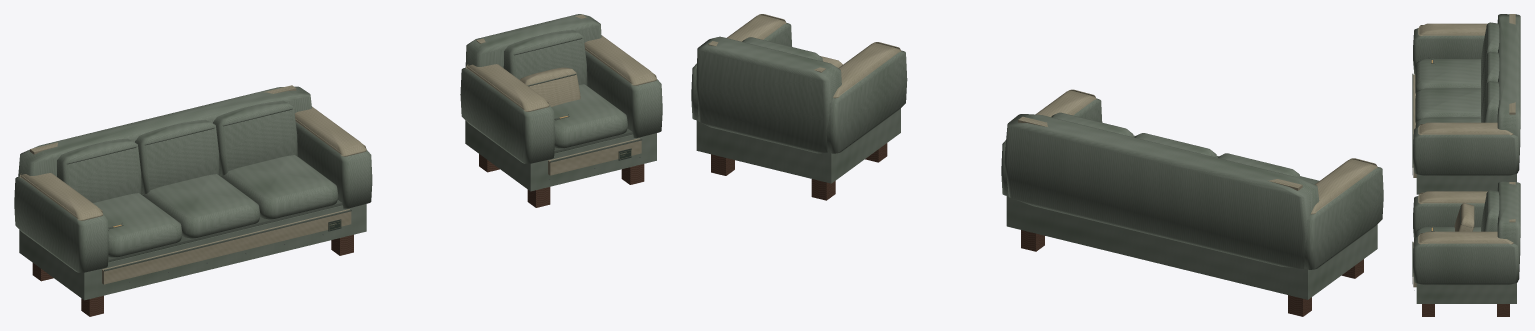
Rendered from PROJECT_Z_FIELDHAVEN_Sofa_Armchair_KIT.glb.
3 views of the same model, side by side, from view 1: azimuth 30°, elevation 25°; view 2: azimuth 150°, elevation 25°; view 3: azimuth 270°, elevation 25° (orthographic). The views are drawn at different scales.
Parts seen in each view (by area): view 1: RENDER_Sofa_Base_Upholstered_Box, RENDER_Sofa_Arm_L_CushionedMain, RENDER_Armchair_Arm_L_CushionedMain, RENDER_Sofa_SeatCushion_C_REMOVABLE, RENDER_Sofa_SeatCushion_B_REMOVABLE, RENDER_Sofa_RearBack_Solid_Carcass, RENDER_Sofa_BackCushion_C_REMOVABLE, RENDER_Sofa_BackCushion_B_REMOVABLE, RENDER_Sofa_BackCushion_A_REMOVABLE, RENDER_Armchair_Base_Upholstered_Box, RENDER_Sofa_Front_Apron_Worn_Trim, RENDER_Sofa_SeatCushion_A_REMOVABLE (+13 smaller); view 2: RENDER_Sofa_RearBack_Solid_Carcass, RENDER_Armchair_RearBack_Solid_Carcass, RENDER_Sofa_Base_Upholstered_Box, RENDER_Armchair_Base_Upholstered_Box, RENDER_Armchair_Arm_L_CushionedMain, RENDER_Sofa_Arm_L_CushionedMain, RENDER_Armchair_Arm_L_TopWornRest, RENDER_Sofa_Arm_L_TopWornRest, RENDER_Armchair_Arm_R_TopWornRest, RENDER_Sofa_Arm_R_TopWornRest, RENDER_Armchair_Arm_R_CushionedMain, RENDER_Sofa_Arm_R_CushionedMain (+4 smaller); view 3: RENDER_Armchair_Arm_R_CushionedMain, RENDER_Sofa_Arm_R_CushionedMain, RENDER_Sofa_RearBack_Solid_Carcass, RENDER_Sofa_SeatCushion_B_REMOVABLE, RENDER_Sofa_SeatCushion_A_REMOVABLE, RENDER_Armchair_Base_Upholstered_Box, RENDER_Sofa_Arm_L_CushionedMain, RENDER_Sofa_Base_Upholstered_Box, RENDER_Armchair_Arm_L_CushionedMain, RENDER_Armchair_RearBack_Solid_Carcass, RENDER_Armchair_Arm_R_TopWornRest, RENDER_Sofa_Arm_R_TopWornRest (+14 smaller).
Part boxes in pixels (<box>): RENDER_Sofa_Base_Upholstered_Box: <box>19,204,366,300</box>; RENDER_Sofa_Arm_L_CushionedMain: <box>14,176,108,272</box>; RENDER_Armchair_Arm_L_CushionedMain: <box>460,67,555,163</box>; RENDER_Sofa_SeatCushion_C_REMOVABLE: <box>220,155,338,218</box>; RENDER_Sofa_SeatCushion_B_REMOVABLE: <box>142,174,260,237</box>; RENDER_Sofa_RearBack_Solid_Carcass: <box>18,86,311,194</box>; RENDER_Sofa_BackCushion_C_REMOVABLE: <box>213,100,297,176</box>; RENDER_Sofa_BackCushion_B_REMOVABLE: <box>135,119,219,194</box>; RENDER_Sofa_BackCushion_A_REMOVABLE: <box>57,138,141,202</box>; RENDER_Armchair_Base_Upholstered_Box: <box>465,120,656,191</box>; RENDER_Sofa_Front_Apron_Worn_Trim: <box>102,209,351,284</box>; RENDER_Sofa_SeatCushion_A_REMOVABLE: <box>93,193,182,257</box>; RENDER_Sofa_RearBack_Solid_Carcass: <box>1004,114,1319,268</box>; RENDER_Armchair_RearBack_Solid_Carcass: <box>696,36,841,153</box>; RENDER_Sofa_Base_Upholstered_Box: <box>1006,196,1377,299</box>; RENDER_Armchair_Base_Upholstered_Box: <box>696,108,900,183</box>; RENDER_Armchair_Arm_L_CushionedMain: <box>826,50,907,153</box>; RENDER_Sofa_Arm_L_CushionedMain: <box>1304,167,1383,269</box>; RENDER_Armchair_Arm_L_TopWornRest: <box>833,42,901,98</box>; RENDER_Sofa_Arm_L_TopWornRest: <box>1311,158,1377,214</box>; RENDER_Armchair_Arm_R_TopWornRest: <box>727,14,786,41</box>; RENDER_Sofa_Arm_R_TopWornRest: <box>1035,89,1096,116</box>; RENDER_Armchair_Arm_R_CushionedMain: <box>691,23,791,120</box>; RENDER_Sofa_Arm_R_CushionedMain: <box>1001,98,1102,196</box>; RENDER_Armchair_Arm_R_CushionedMain: <box>1413,236,1519,285</box>; RENDER_Sofa_Arm_R_CushionedMain: <box>1413,127,1519,176</box>; RENDER_Sofa_RearBack_Solid_Carcass: <box>1497,14,1520,170</box>; RENDER_Sofa_SeatCushion_B_REMOVABLE: <box>1415,88,1480,122</box>; RENDER_Sofa_SeatCushion_A_REMOVABLE: <box>1415,59,1480,93</box>; RENDER_Armchair_Base_Upholstered_Box: <box>1416,283,1516,303</box>; RENDER_Sofa_Arm_L_CushionedMain: <box>1413,28,1484,74</box>; RENDER_Sofa_Base_Upholstered_Box: <box>1416,174,1516,194</box>; RENDER_Armchair_Arm_L_CushionedMain: <box>1413,195,1484,238</box>; RENDER_Armchair_RearBack_Solid_Carcass: <box>1497,181,1520,279</box>; RENDER_Armchair_Arm_R_TopWornRest: <box>1418,231,1513,244</box>; RENDER_Sofa_Arm_R_TopWornRest: <box>1418,122,1513,135</box>.
Size of the model in its own units: 4.34 by 0.8874 by 0.9067.
7 materials, 7 textured.
